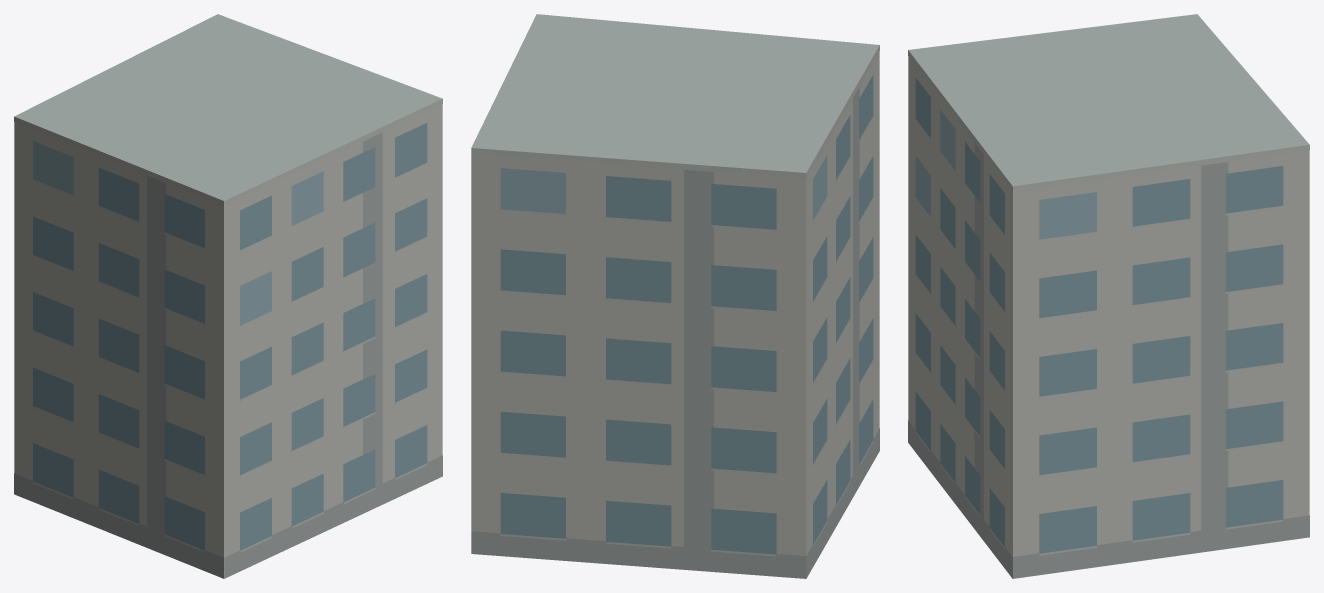
The model's file is survey-upis-32864004.glb.
3 renders of one model, left to right at view 1: azimuth 30°, elevation 25°; view 2: azimuth 150°, elevation 25°; view 3: azimuth 270°, elevation 25°, orthographic. The views are drawn at different scales.
Visible parts, largest first — view 1: survey-upis-32864004.tmp; view 2: survey-upis-32864004.tmp; view 3: survey-upis-32864004.tmp.
Boxes of the visible parts, left/top/right/bottom form: survey-upis-32864004.tmp: left=14, top=14, right=442, bottom=578; survey-upis-32864004.tmp: left=471, top=14, right=879, bottom=578; survey-upis-32864004.tmp: left=908, top=14, right=1309, bottom=578.
Bounding box in the file's own units: 15.45 × 16.4 × 15.22.
